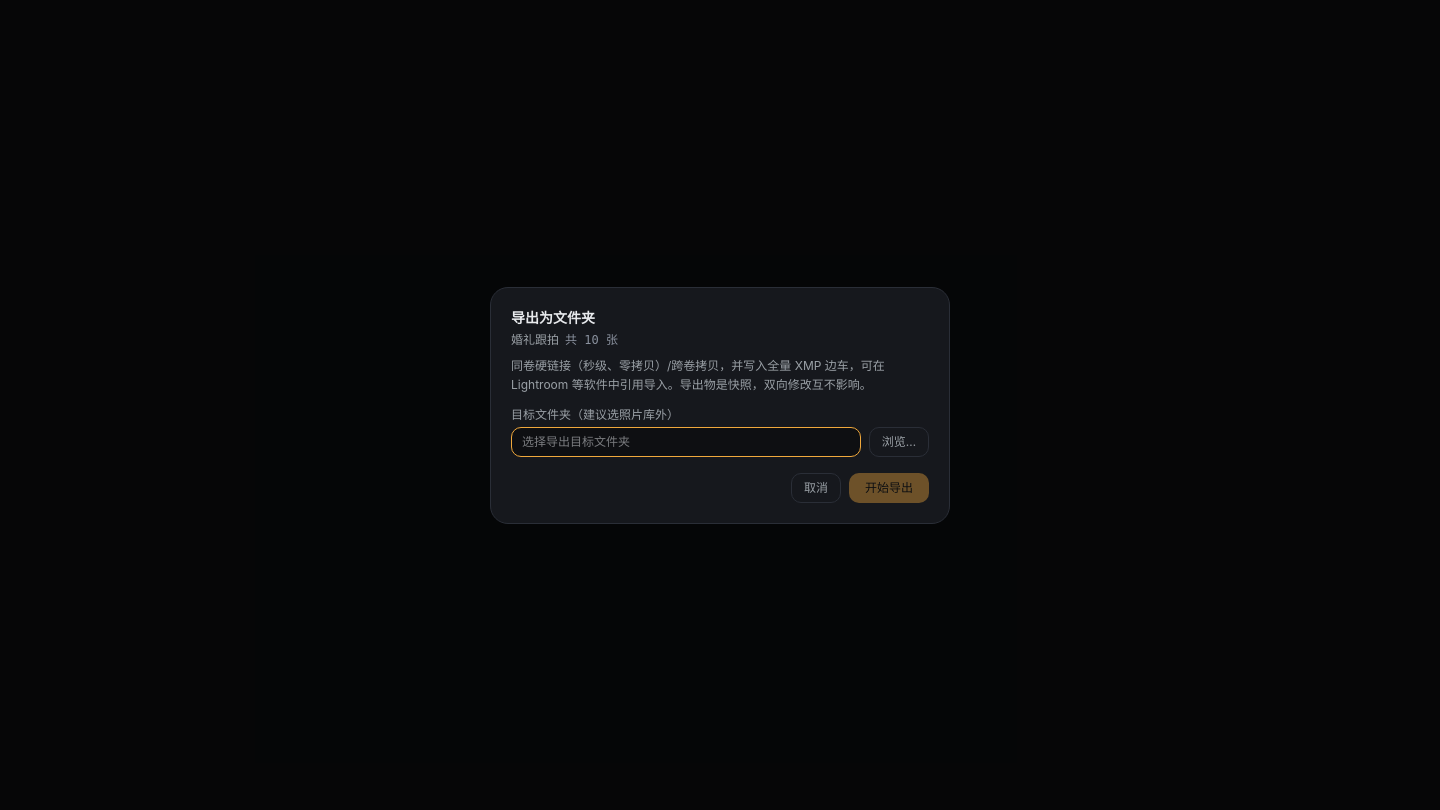
Test case: 配置段：默认建议与库内提示 › 启动成功即记住本次位置（下次默认建议）
Type "D:\\LR Export" into the field with test id "album-export-dir".
click(686, 442); type("D:\\LR Export")  # box [511,426,861,456]
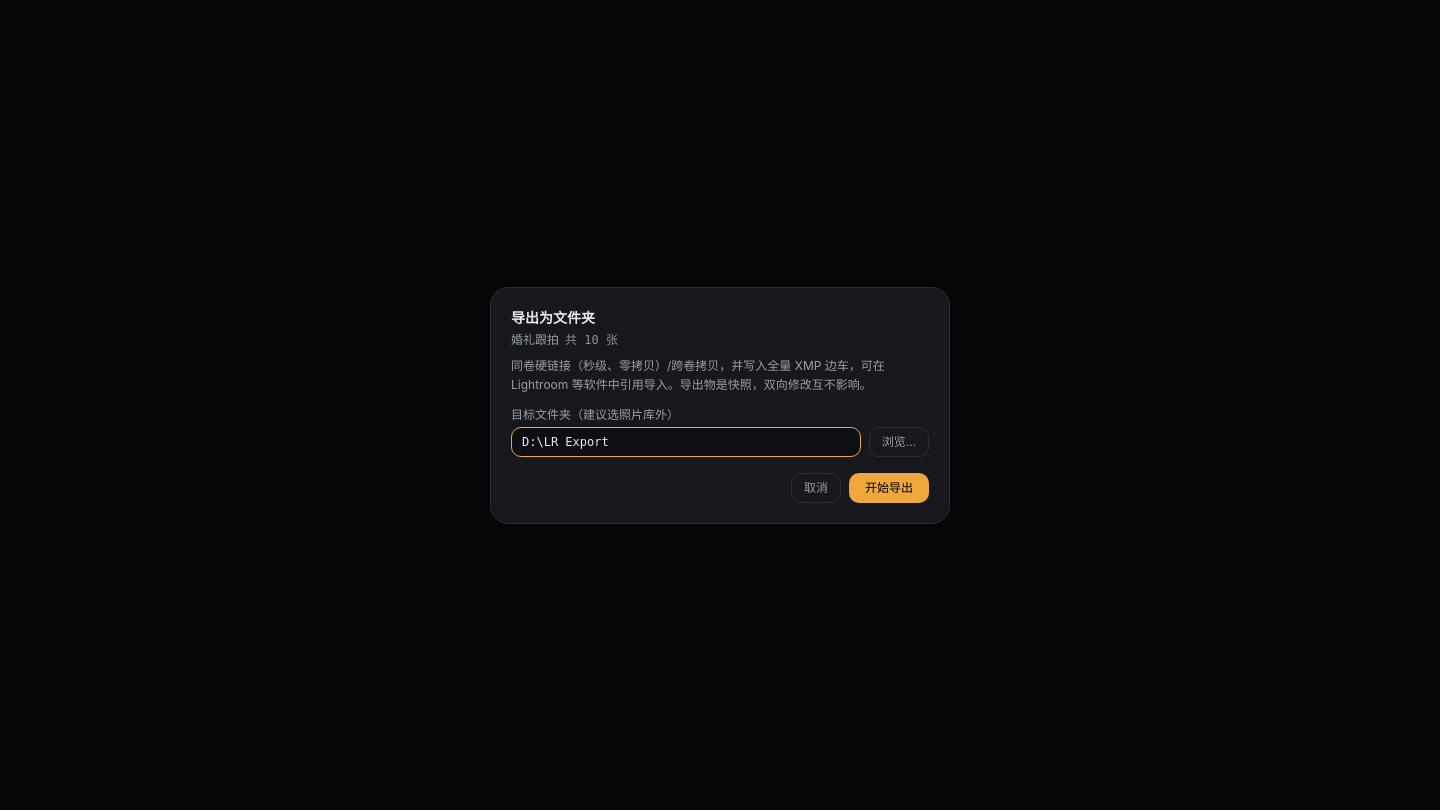
Click the button with test id "album-export-confirm".
click(889, 488)  # box [849,472,929,502]
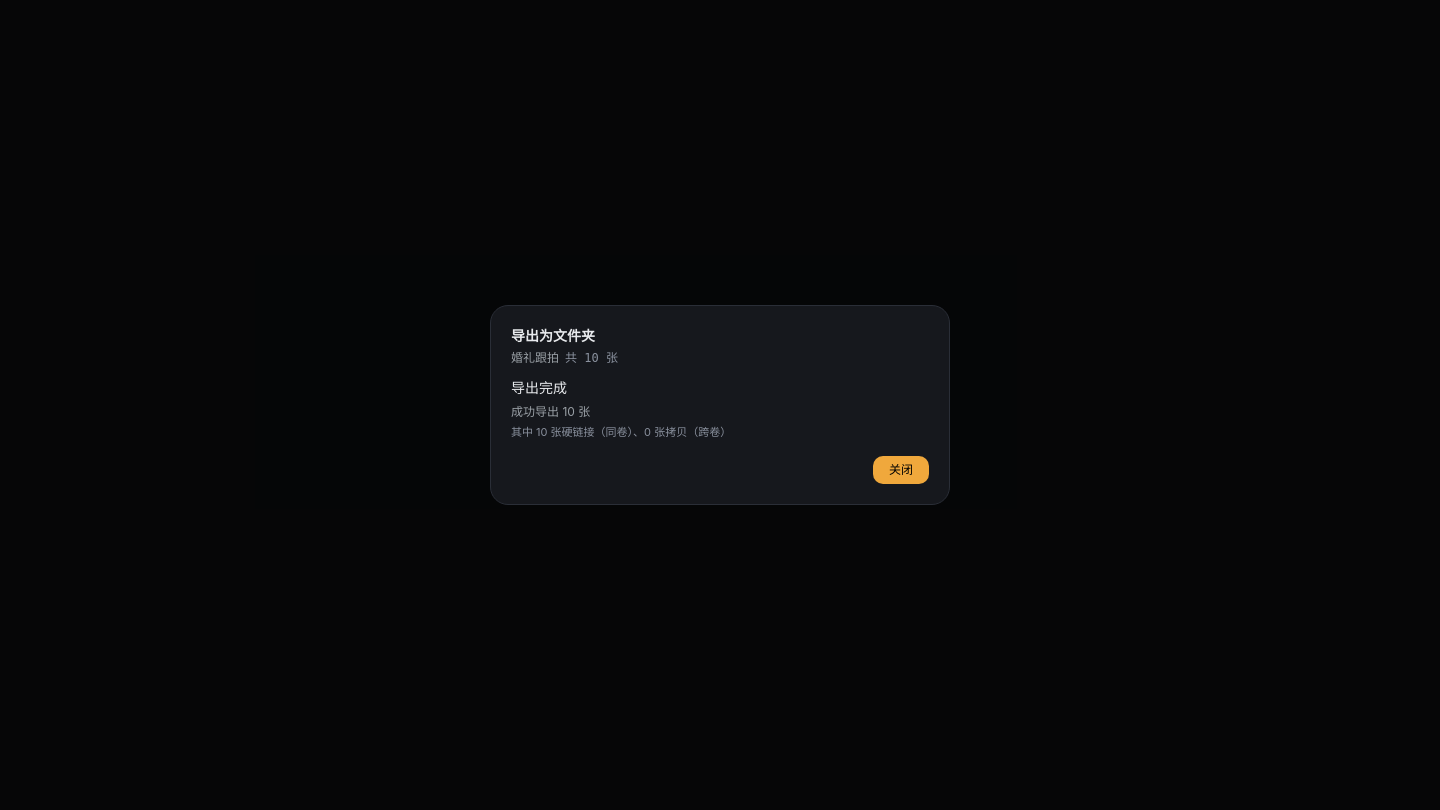
Expected: the element with test id "album-export-summary" is shown, [511,378,929,484]
